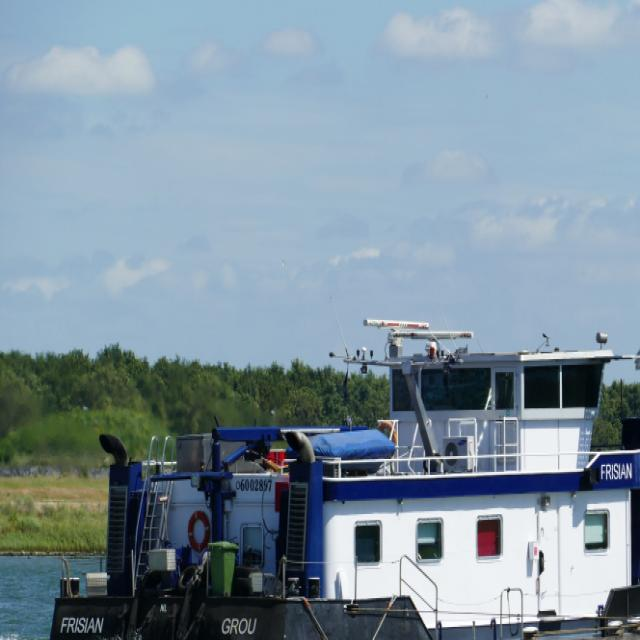tugboat: (45, 312, 640, 640)
